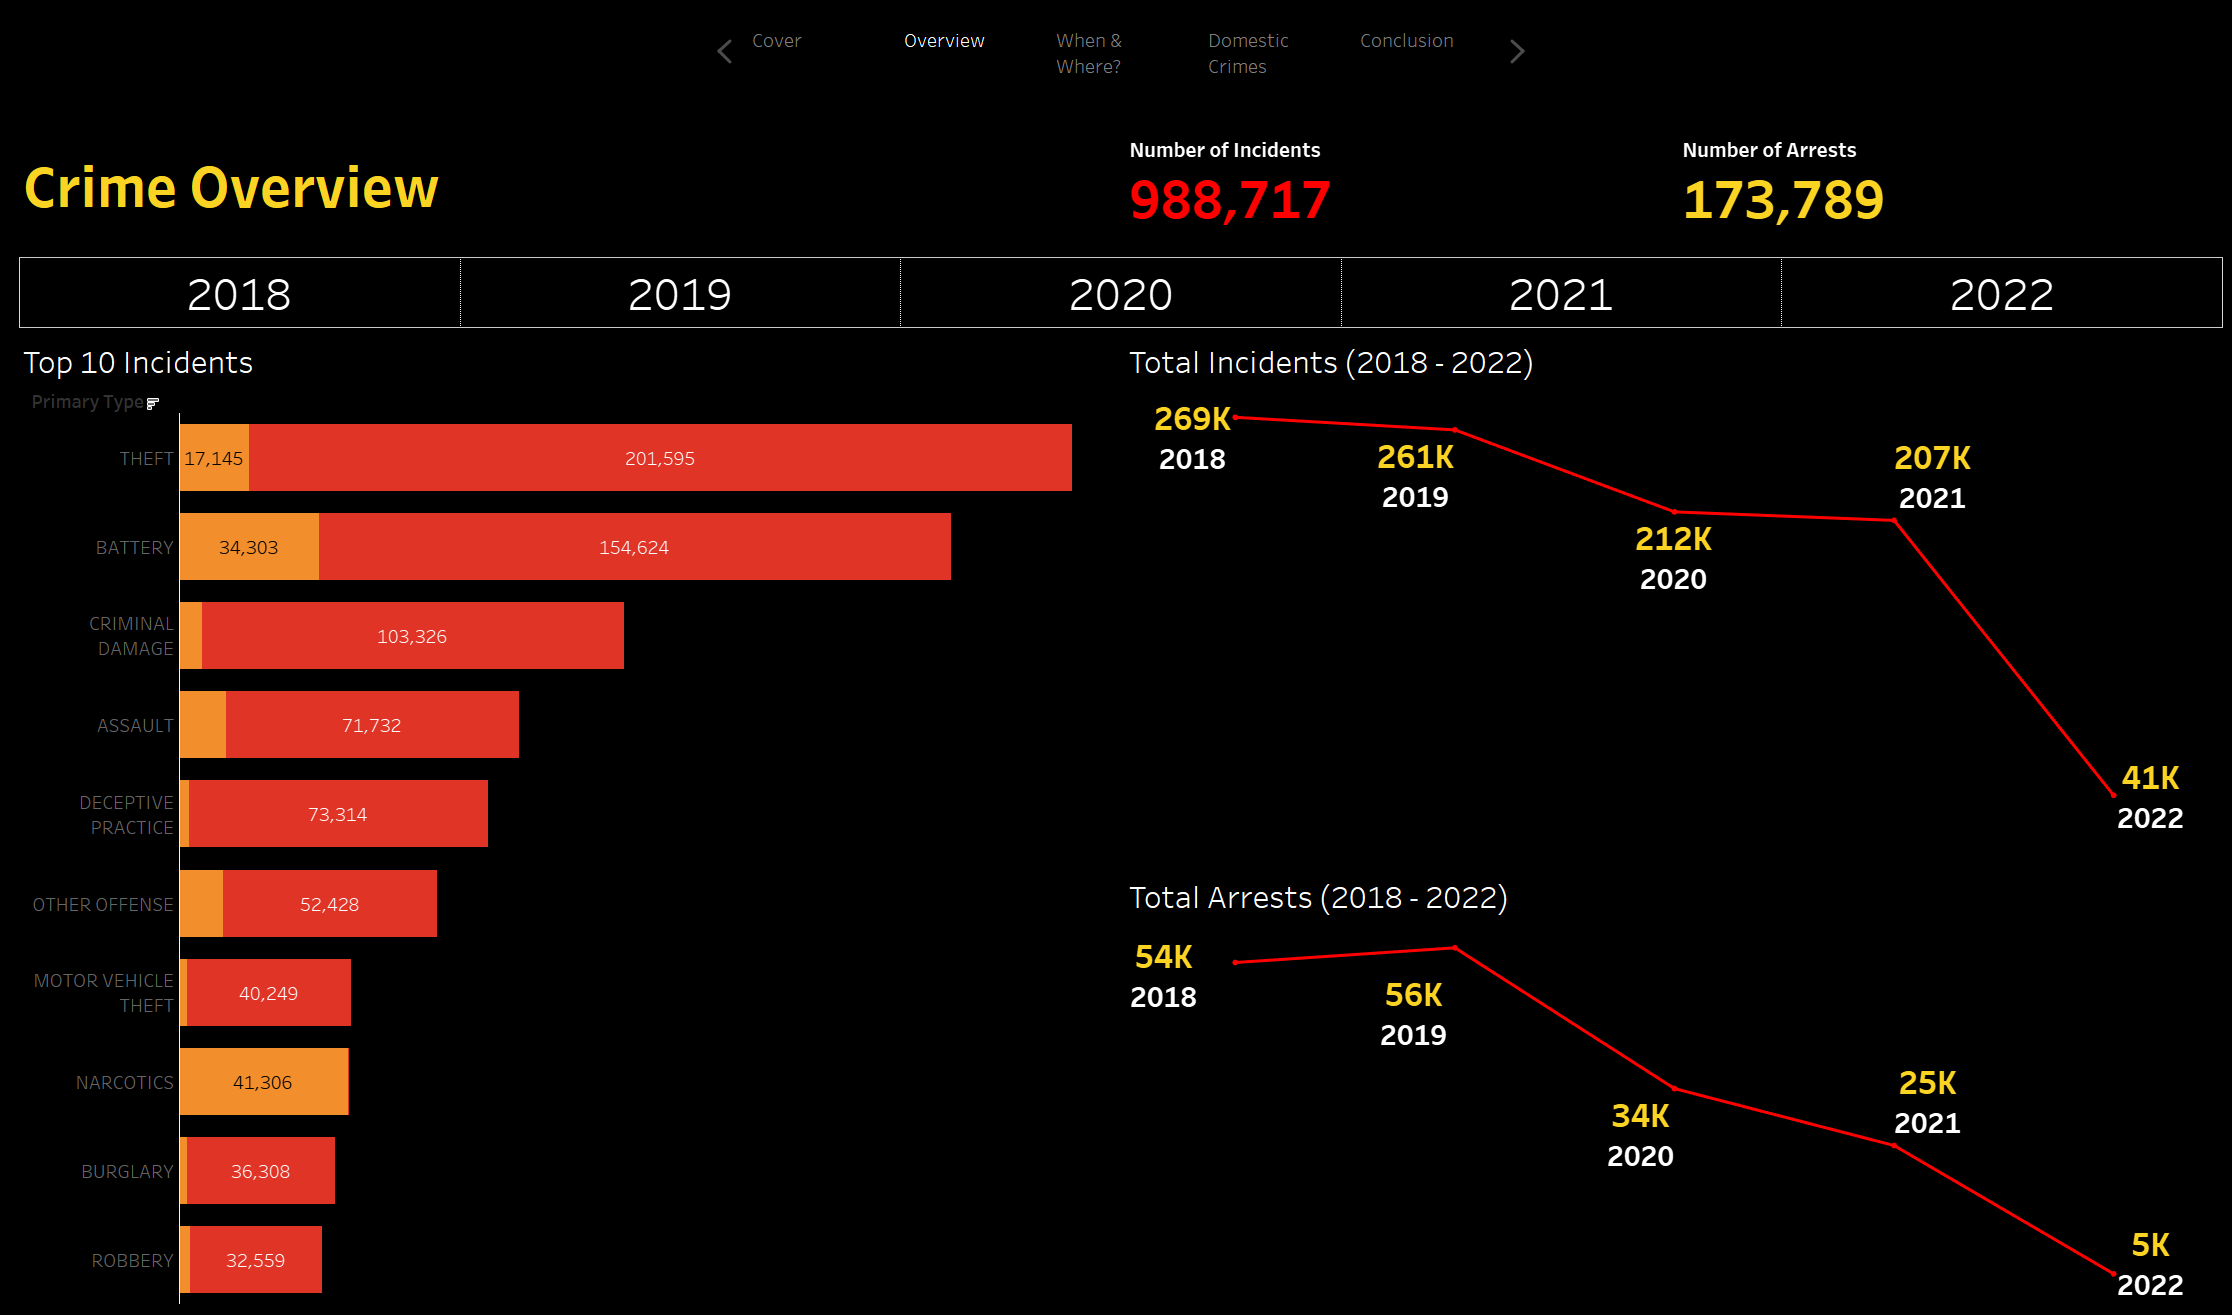

Layout of this report page (visuals, bound fields, positions):
{"tool":"tableau","page":{"name":"Dashboard - Crime Overview","canvas":[1000,1000],"units":"permille","ordinal":1},"visuals":[{"type":"text","box":[3.6,6,496.4,113.9]},{"type":"worksheet","title":"Total Incidents","mark":"Automatic","box":[500,6,248.2,113.9]},{"type":"worksheet","title":"Total Arrests","mark":"Automatic","box":[748.2,6,248.2,113.9]},{"type":"worksheet","title":"Year Filters","mark":"Automatic","cols":["Date"],"box":[3.6,119.9,992.9,65.6]},{"type":"worksheet","title":"Top 10 Incidents","mark":"Automatic","rows":["Primary Type"],"cols":["Primary Type"],"box":[3.6,185.5,496.4,808.5]},{"type":"worksheet","title":"Incidents by Year","mark":"Line","rows":["Primary Type"],"cols":["Date"],"box":[500,185.5,496.4,443.4]},{"type":"worksheet","title":"Arrests by Year","mark":"Line","rows":["Arrest"],"cols":["Date"],"box":[500,629,496.4,365]}]}

Visuals, with their boxes on the dashboard's canvas, which has no fixed pixel size, in thousandths of its width and height (x1, y1, x2, y2). These are canvas units, not pixel positions in the 2232x1315 screenshot, which may show the page scaled, cropped or inside an application window:
text: BBox(4, 6, 500, 120)
"Total Incidents" worksheet: BBox(500, 6, 748, 120)
"Total Arrests" worksheet: BBox(748, 6, 996, 120)
"Year Filters" worksheet: BBox(4, 120, 996, 186)
"Top 10 Incidents" worksheet: BBox(4, 186, 500, 994)
"Incidents by Year" worksheet (Line marks): BBox(500, 186, 996, 629)
"Arrests by Year" worksheet (Line marks): BBox(500, 629, 996, 994)
